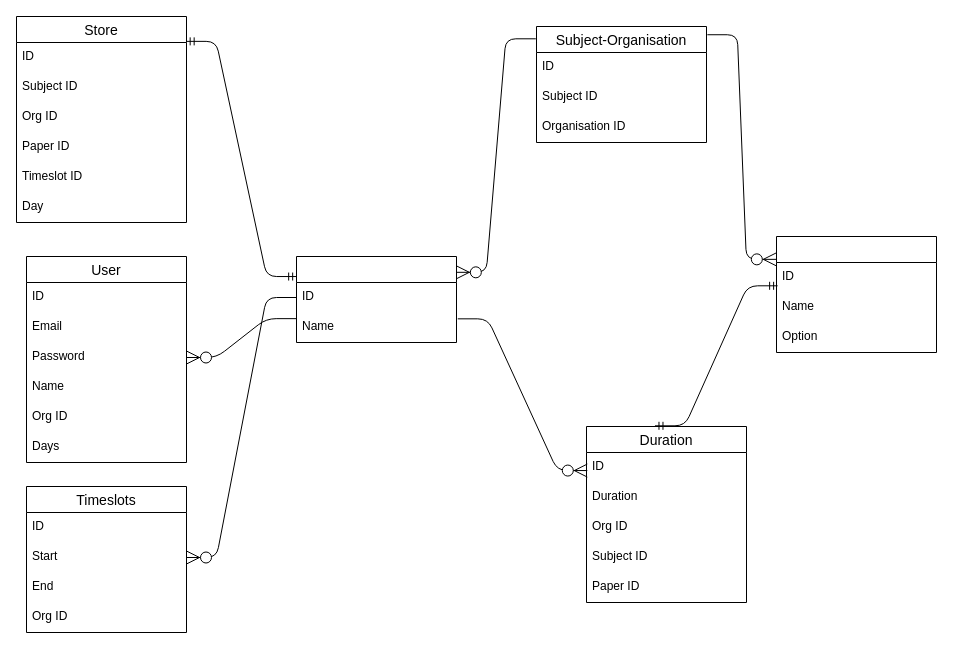
The diagram is 953 pixels wide and 649 high, and some of its shapes have lost their labels. Each missing label, with the box of its shape:
Organisation: (296, 256, 456, 342)
Subjects: (776, 236, 936, 352)
